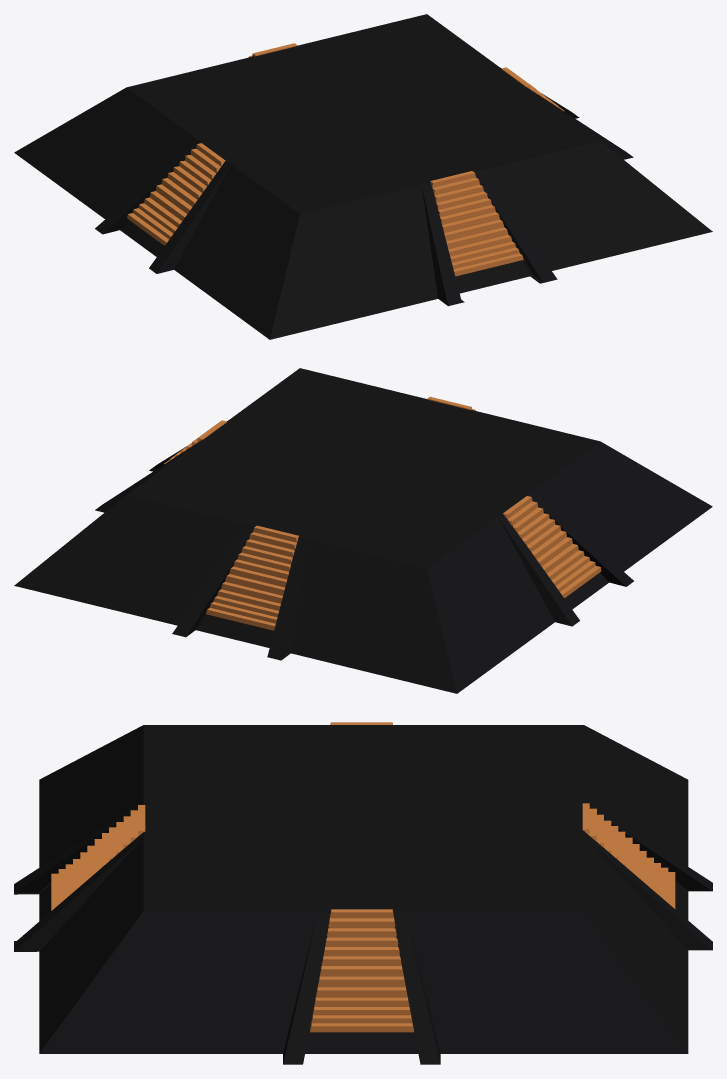
3 renders of one model, top to bottom at view 1: azimuth 30°, elevation 25°; view 2: azimuth 150°, elevation 25°; view 3: azimuth 270°, elevation 25°, orthographic. The views are drawn at different scales.
Parts seen in each view (by area): view 1: pyramid_base; view 2: pyramid_base; view 3: pyramid_base.
Part boxes in pixels (<box>): pyramid_base: <box>14,14,712,339</box>; pyramid_base: <box>14,368,712,693</box>; pyramid_base: <box>14,722,712,1064</box>.
Size of the model in its own units: 3270 by 517 by 3268.
